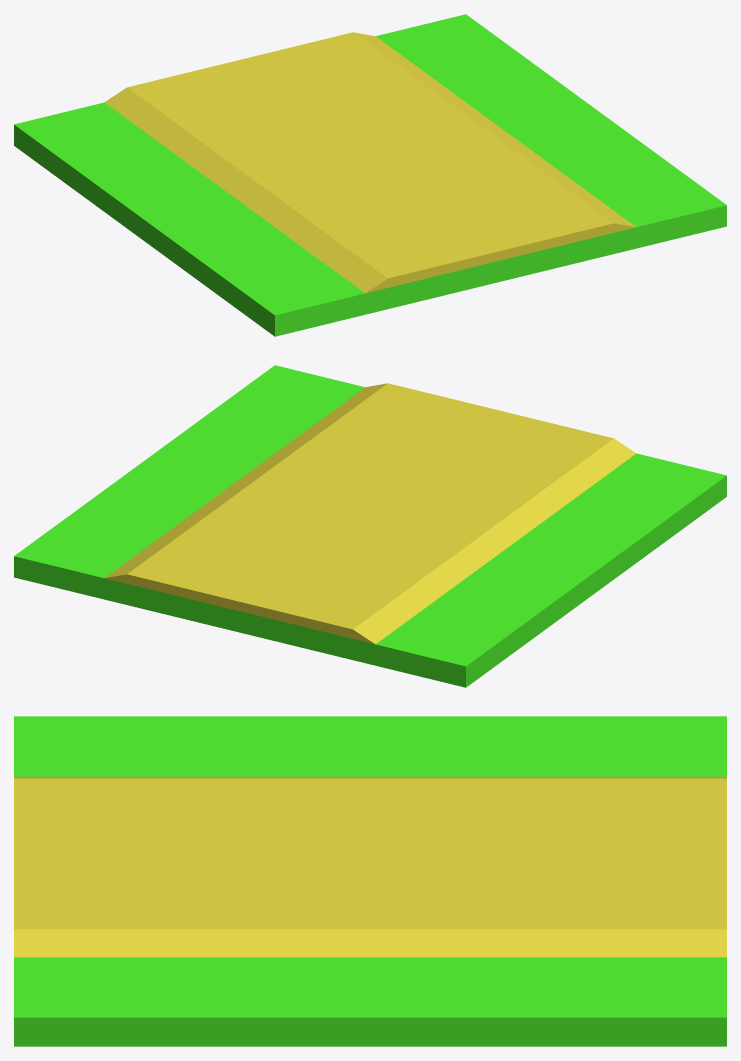
File: World1.2.fbx
3 renders of one model, top to bottom at view 1: azimuth 30°, elevation 25°; view 2: azimuth 150°, elevation 25°; view 3: azimuth 270°, elevation 25°, orthographic. The views are drawn at different scales.
Parts seen in each view (by area): view 1: Cube.121, Cube.120; view 2: Cube.121, Cube.120; view 3: Cube.121, Cube.120.
Part boxes in pixels (x1,y1,x2,y2): Cube.121: [104, 32, 635, 293]; Cube.120: [14, 14, 726, 336]; Cube.121: [105, 383, 636, 644]; Cube.120: [14, 365, 726, 687]; Cube.121: [14, 776, 726, 957]; Cube.120: [14, 716, 726, 1046].
Size of the model in its own units: 400 by 26.04 by 400.
